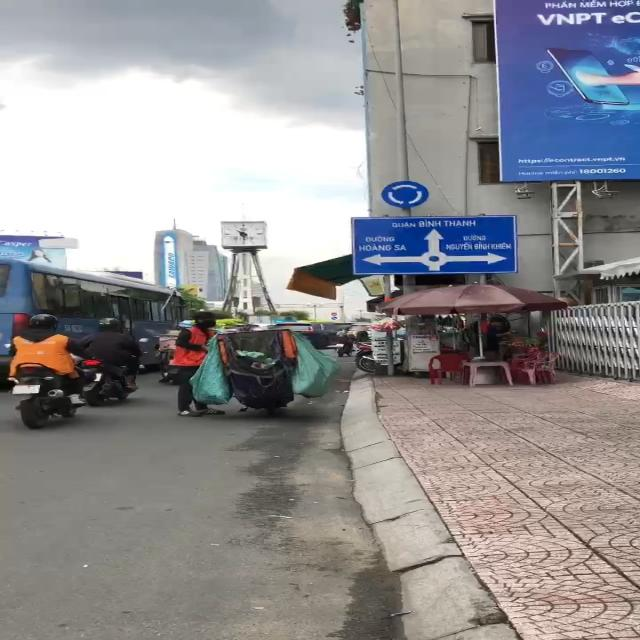Bien bao noi giao nhau chay theo vong xuyen: (376, 179, 434, 210)
